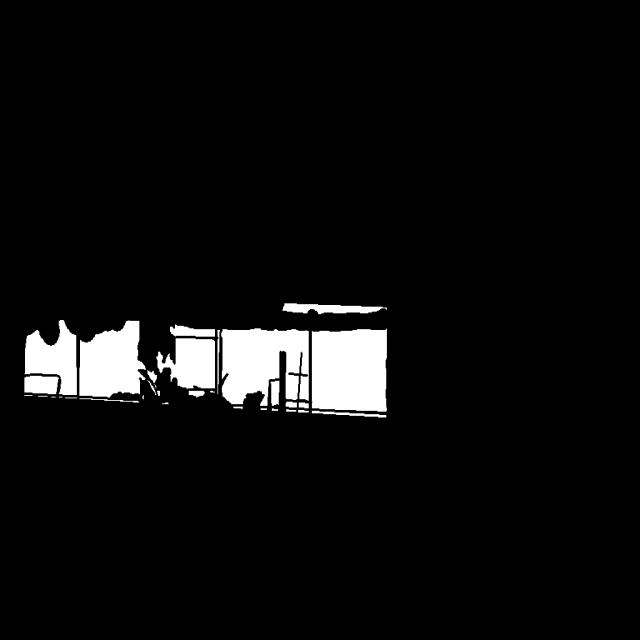fire: (22, 267, 412, 476)
